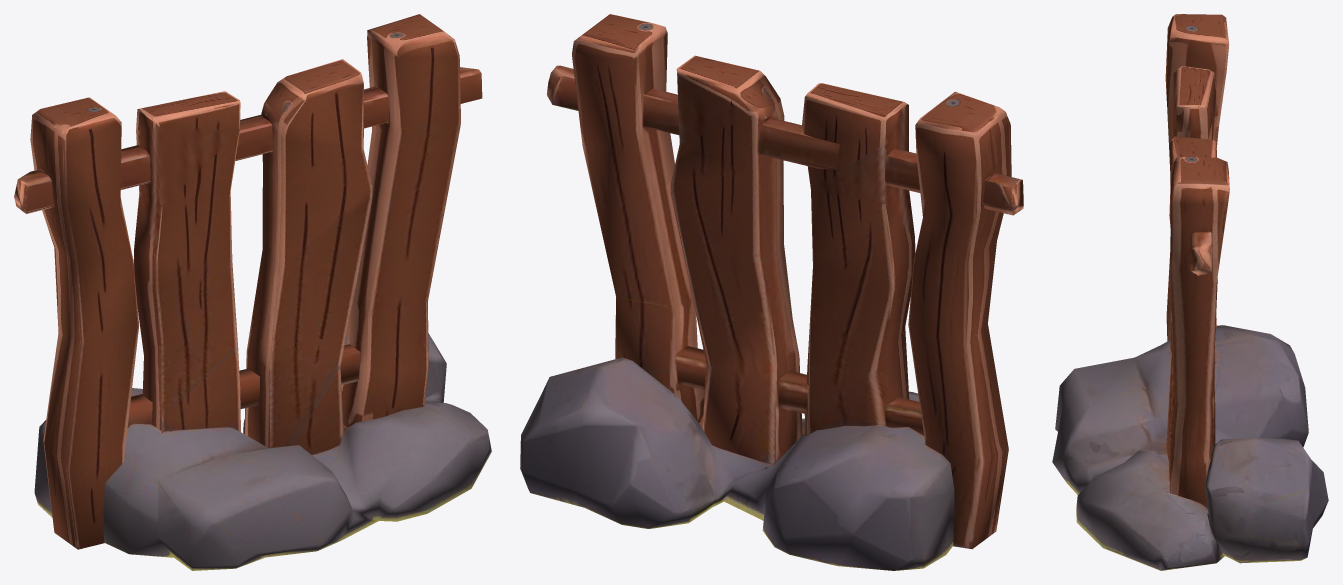
The model's file is fence.glb.
The picture shows the model from 3 angles, left to right: view 1: azimuth 30°, elevation 25°; view 2: azimuth 150°, elevation 25°; view 3: azimuth 270°, elevation 25°; orthographic projection. The views are drawn at different scales.
Bounding box in the file's own units: 0.9648 × 0.856 × 0.5645.
Materials: 1 (1 with a texture image).
